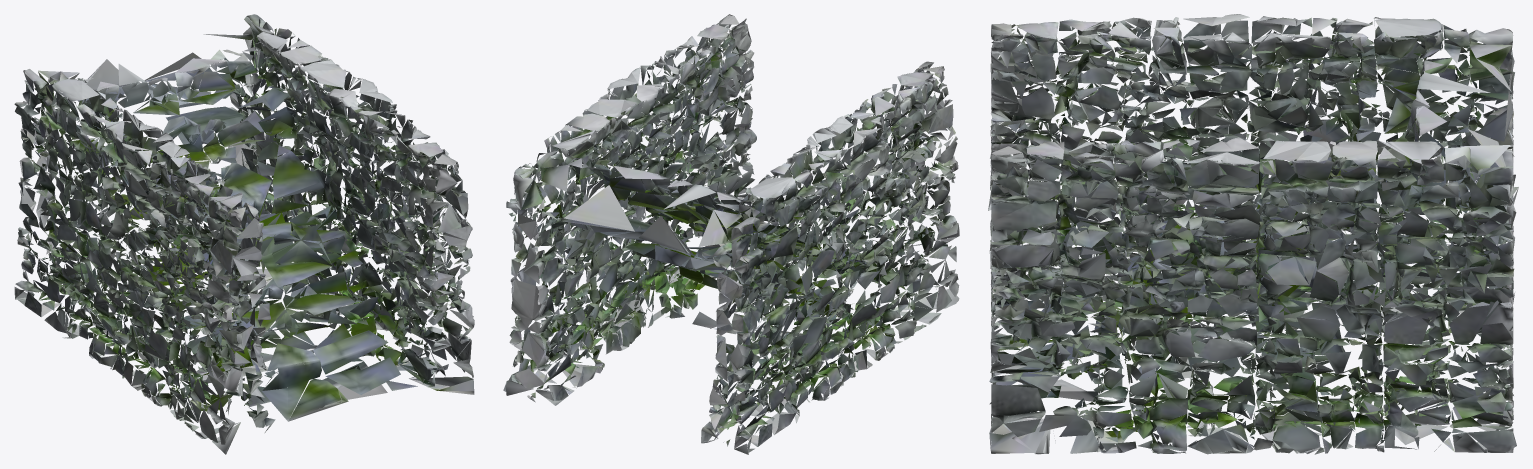
File: stone_staircase.glb
3 views of the same model, side by side, from view 1: azimuth 30°, elevation 25°; view 2: azimuth 150°, elevation 25°; view 3: azimuth 270°, elevation 25° (orthographic). The views are drawn at different scales.
Parts seen in each view (by area): view 1: Mesh_0; view 2: Mesh_0; view 3: Mesh_0.
Boxes of the visible parts, x1=… form: Mesh_0: x1=14, y1=14, x2=474, y2=454; Mesh_0: x1=503, y1=14, x2=959, y2=454; Mesh_0: x1=988, y1=14, x2=1518, y2=454.
Size of the model in its own units: 1.1 by 1 by 1.62.
1 material, 1 textured.
